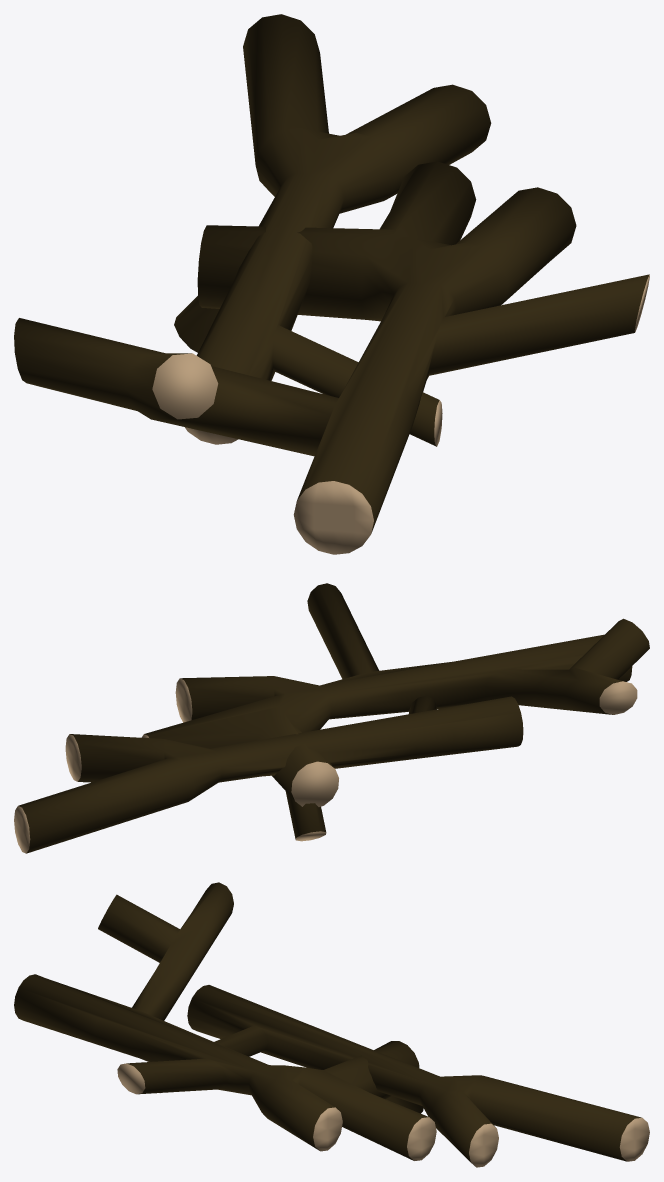
Rendered from Twigz.fbx.
3 renders of one model, top to bottom at view 1: azimuth 30°, elevation 25°; view 2: azimuth 150°, elevation 25°; view 3: azimuth 270°, elevation 25°, orthographic. The views are drawn at different scales.
Visible parts, largest first — view 1: Branch.001; view 2: Branch.001; view 3: Branch.001.
Part boxes in pixels (x1,y1,x2,y2): Branch.001: (14, 14, 649, 554); Branch.001: (14, 583, 649, 853); Branch.001: (14, 882, 649, 1167).
Bounding box in the file's own units: 162 × 54 × 216.
